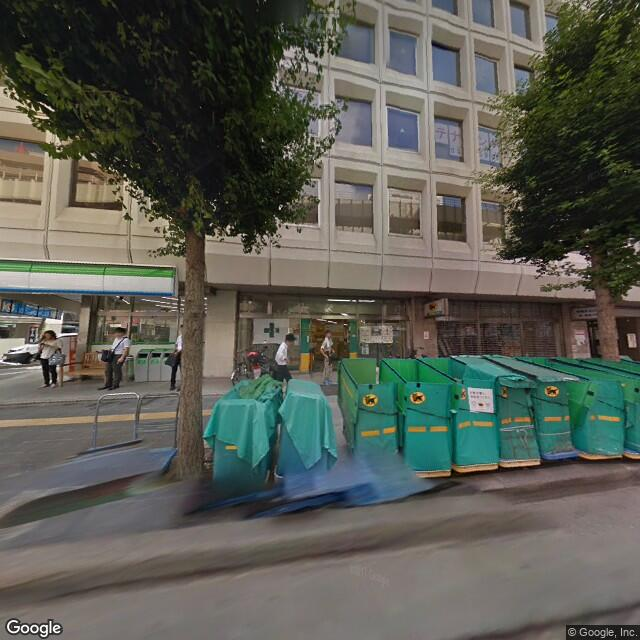family_mart: (1, 258, 175, 297)
